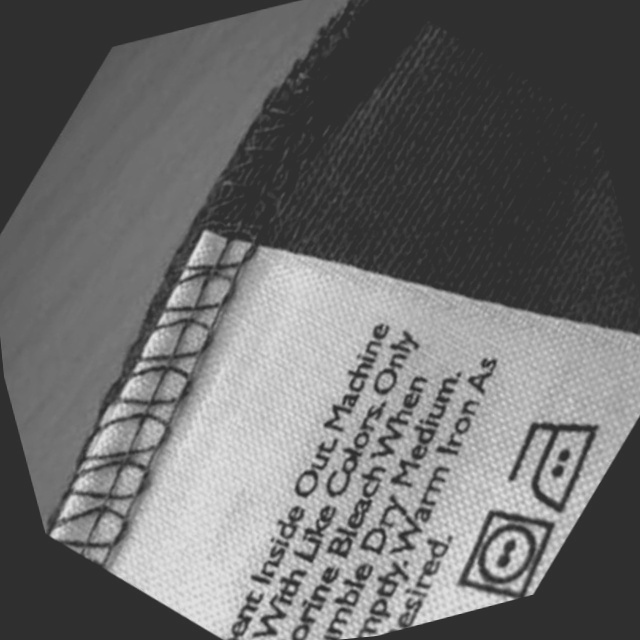iron_medium: (495, 402, 625, 522)
tumble_dry_medium: (443, 495, 575, 611)
